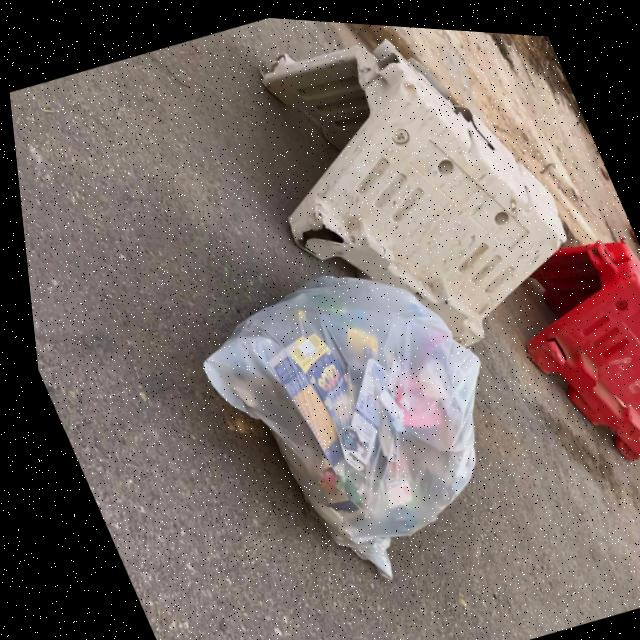Recycled Waste -Grey or Green Bag-: (169, 233, 551, 616)
